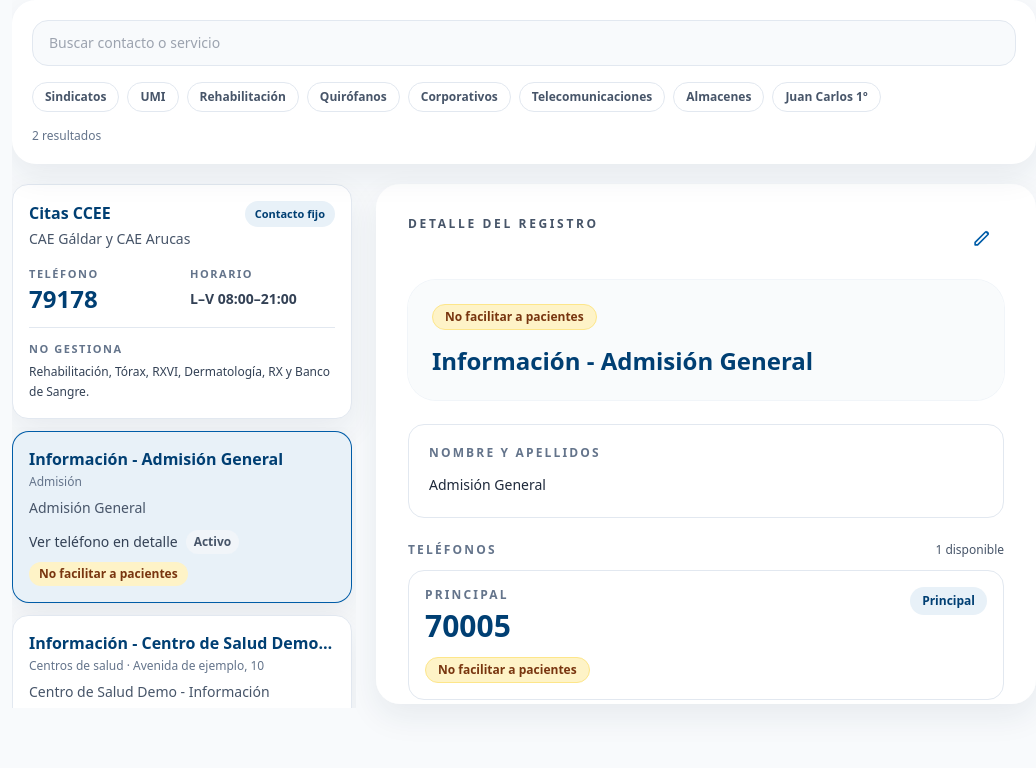
Test: DirectoryPage › keeps the generic CCEE appointments line visible without adding it to search results
Expected: the heading "Citas CCEE" is shown, [29, 202, 111, 224]
Expected: the text "CAE Gáldar y CAE Arucas" is shown, [29, 229, 190, 249]
Type "consulta inexistente 79178" into the search field named "Buscar contactos" at (524, 43), box [32, 20, 1016, 66]
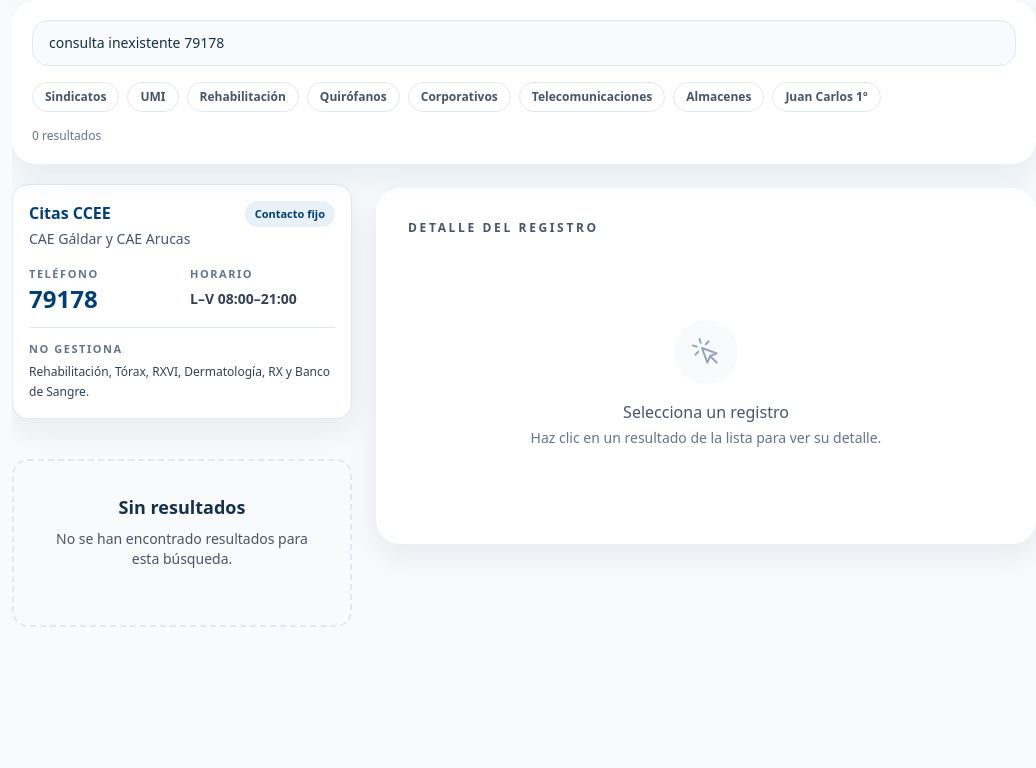
Expected: the text "79178" is shown, [29, 282, 98, 315]
Result: the text "0 resultados" is shown at [32, 127, 101, 144]
